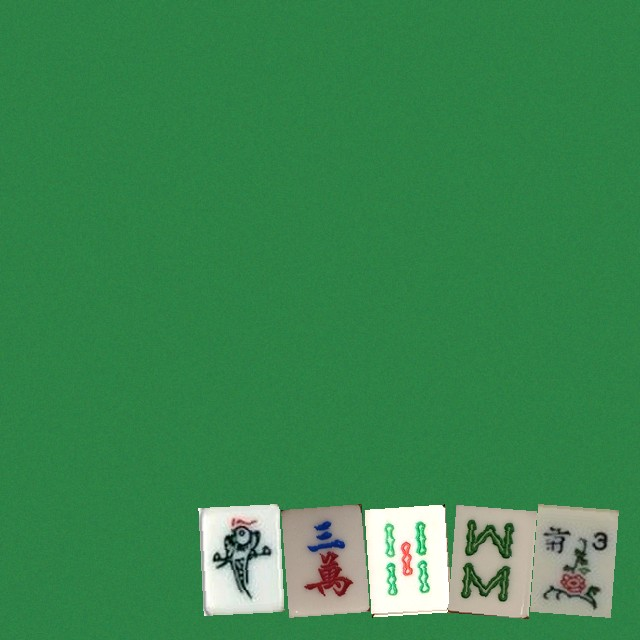tile: (198, 504, 279, 612), (281, 504, 362, 612), (364, 504, 445, 612), (447, 504, 528, 612), (530, 504, 611, 612)
